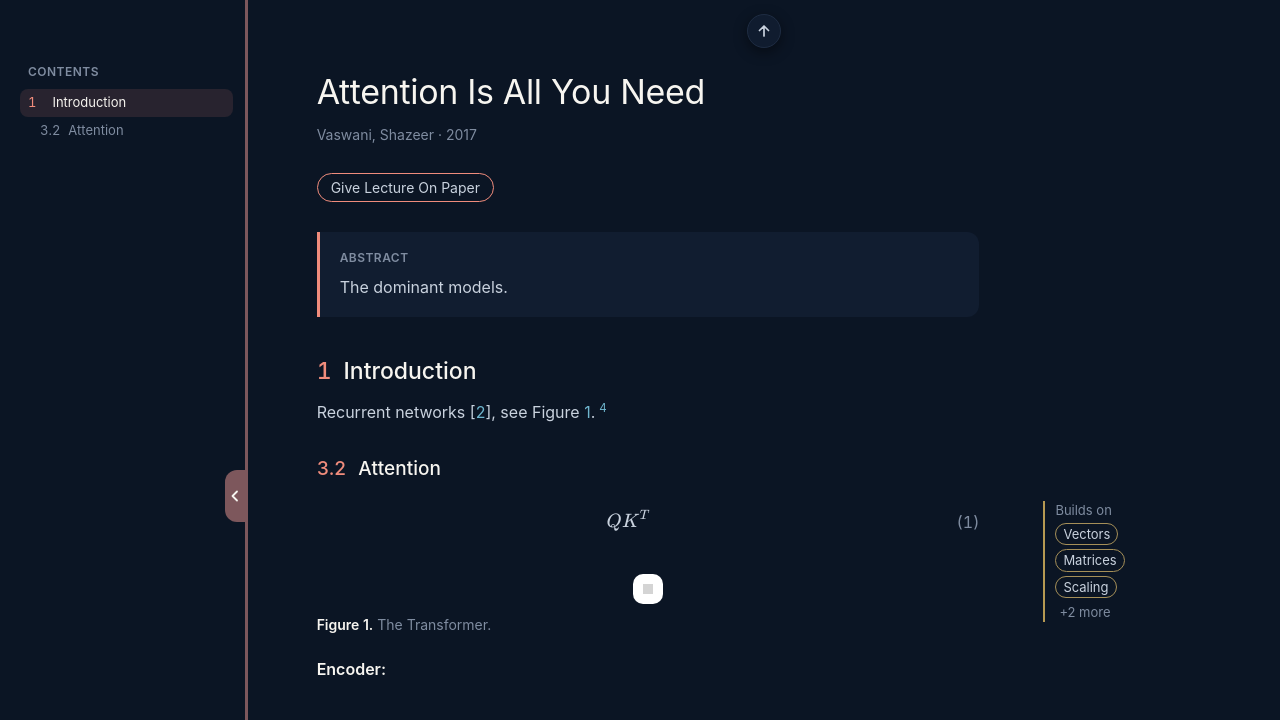
it: shows a long note’s first three concepts and the rest on “+N more”
This screenshot has width=1280, height=720.
Check: the number of buttons with class "reader-concept" is 3, box [1055,523,1118,545]; [1055,549,1125,572]; [1055,576,1117,598]
Click the button "+2 more" at [1085, 612], box [1055,602,1115,622]
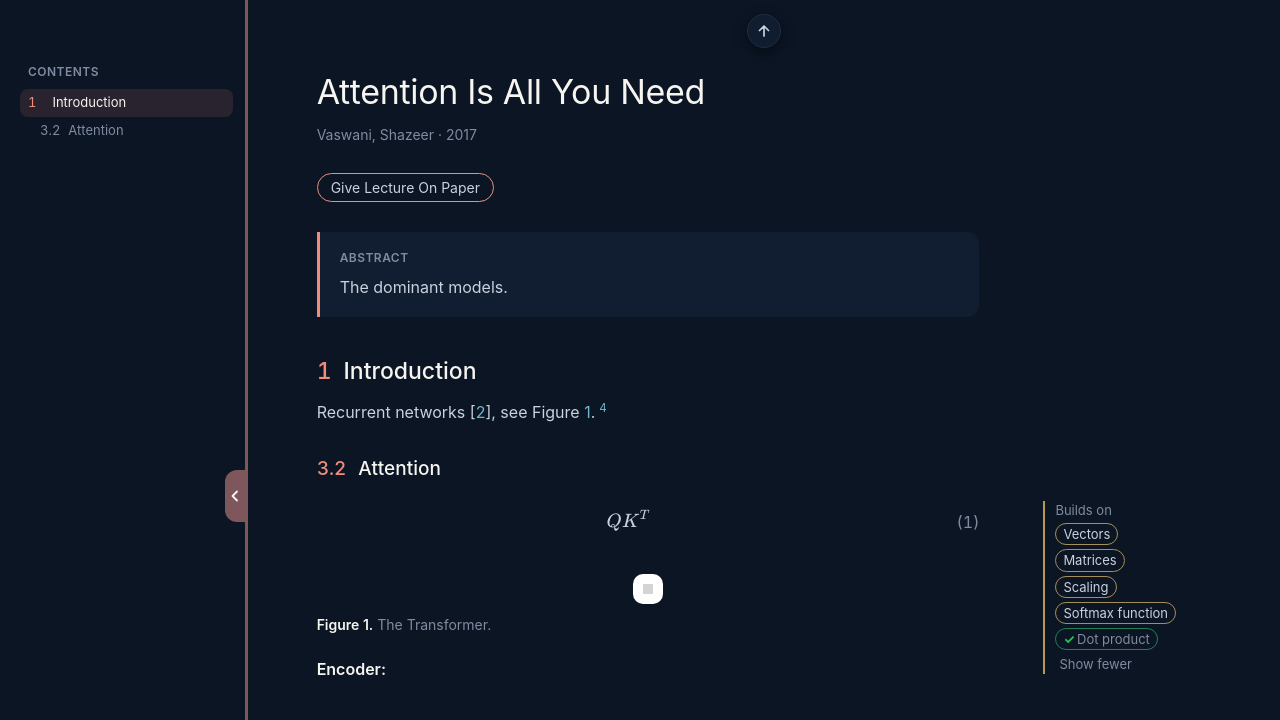
Check: the number of buttons with class "reader-concept" is 5, box [1055,523,1118,545]; [1055,549,1125,572]; [1055,576,1117,598]; [1055,602,1176,624]; [1055,628,1158,650]
Click the button "Show fewer" at [1096, 664], box [1055,654,1136,674]
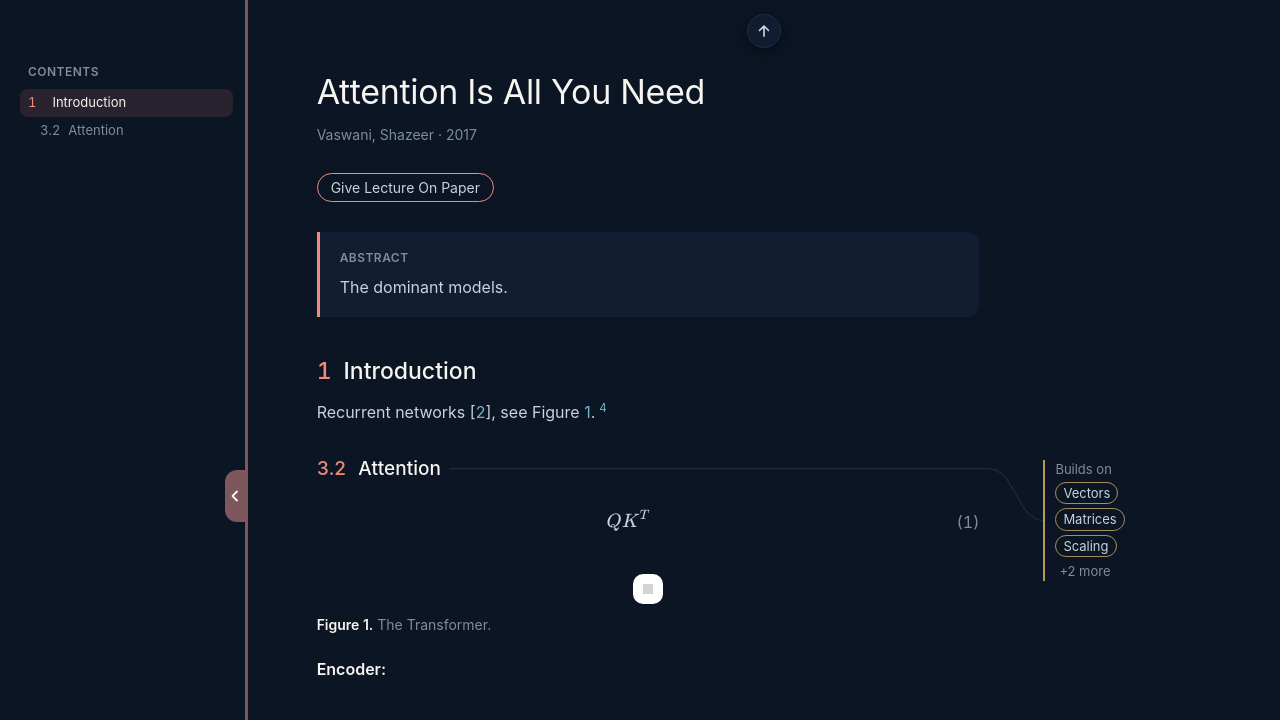
Check: the number of buttons with class "reader-concept" is 3, box [1055,482,1118,504]; [1055,508,1125,530]; [1055,534,1117,557]
